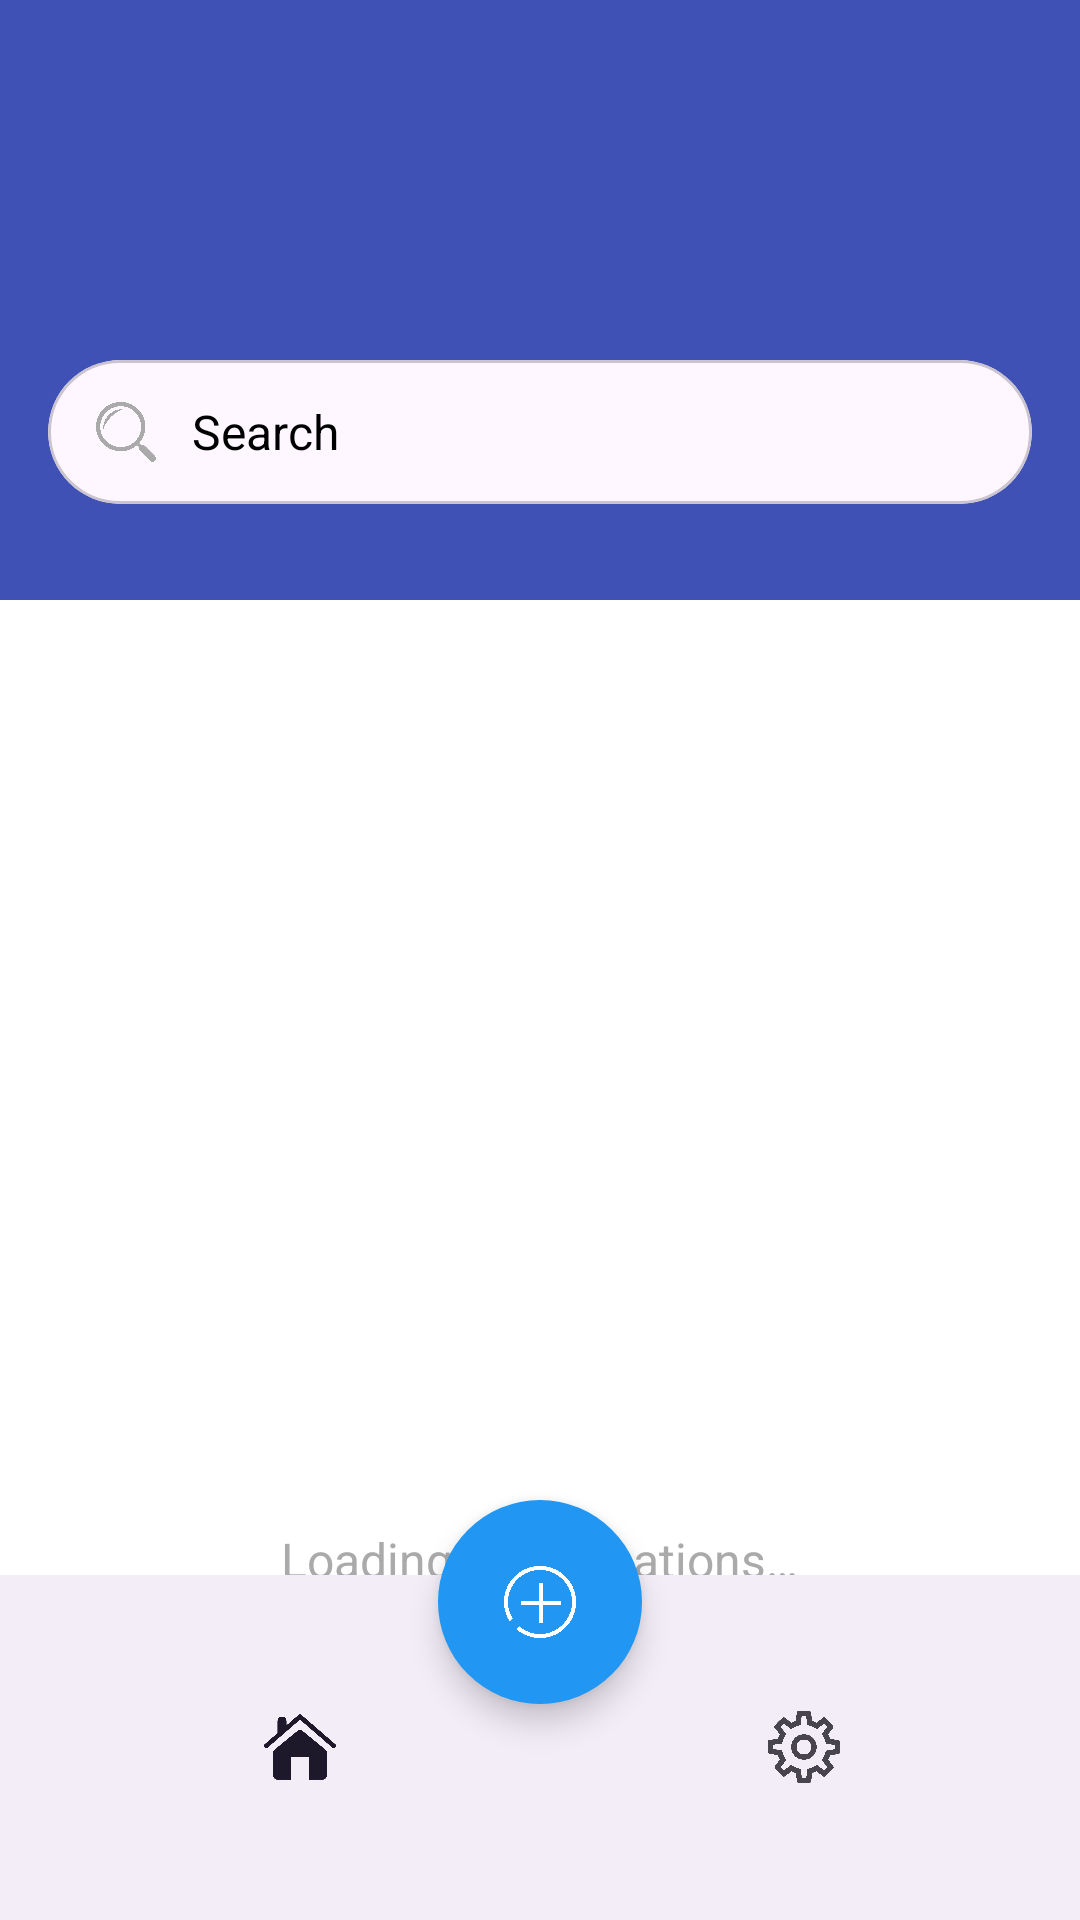

Screen size 1080x1920. Icon name, then its center in pixels as (x=x, y=y):
action button: (x=540, y=1602)
